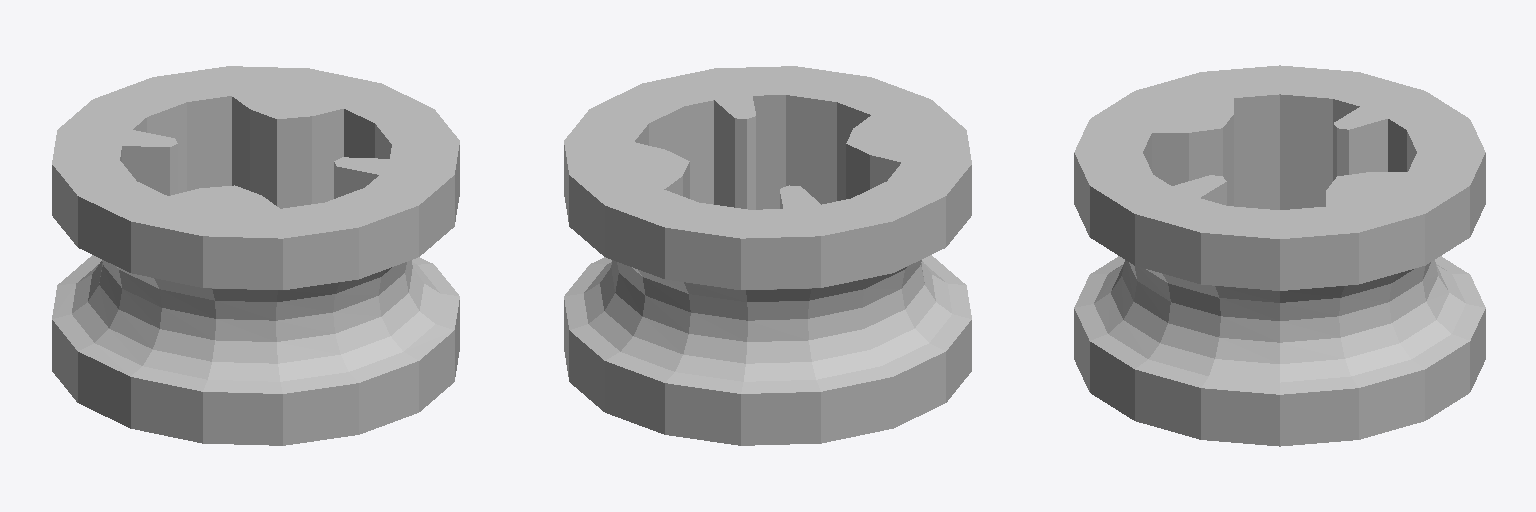
Rendered from Piece016.obj.
3 renders of one model, left to right at view 1: azimuth 30°, elevation 25°; view 2: azimuth 150°, elevation 25°; view 3: azimuth 270°, elevation 25°, orthographic.
Parts seen in each view (by area): view 1: Piece000; view 2: Piece000; view 3: Piece000.
Part boxes in pixels (x1,y1,x2,y2): Piece000: (52,66,459,445); Piece000: (564,66,971,445); Piece000: (1074,65,1485,446).
Size of the model in its own units: 18 by 10 by 18.